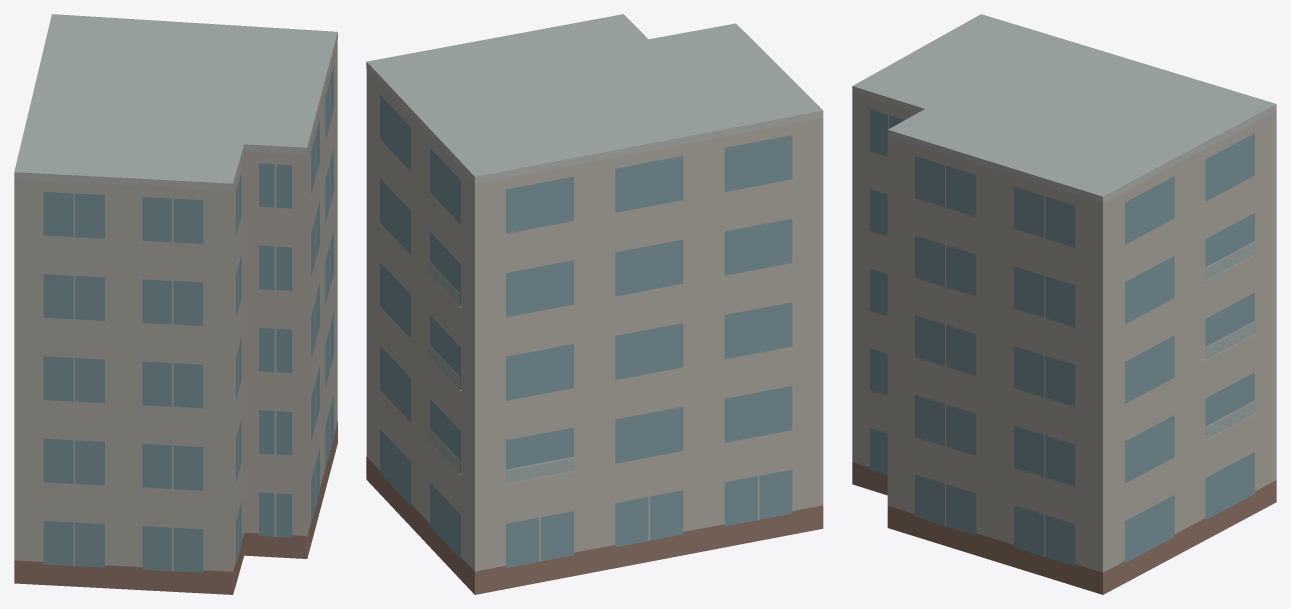
Rendered from survey-upis-32854916.glb.
3 renders of one model, left to right at view 1: azimuth 30°, elevation 25°; view 2: azimuth 150°, elevation 25°; view 3: azimuth 270°, elevation 25°, orthographic. The views are drawn at different scales.
Visible parts, largest first — view 1: survey-upis-32854916.tmp; view 2: survey-upis-32854916.tmp; view 3: survey-upis-32854916.tmp.
Boxes of the visible parts, left/top/right/bottom form: survey-upis-32854916.tmp: left=14, top=14, right=337, bottom=594; survey-upis-32854916.tmp: left=366, top=14, right=823, bottom=594; survey-upis-32854916.tmp: left=852, top=14, right=1276, bottom=594.
Bounding box in the file's own units: 14.17 × 14.4 × 13.91.
